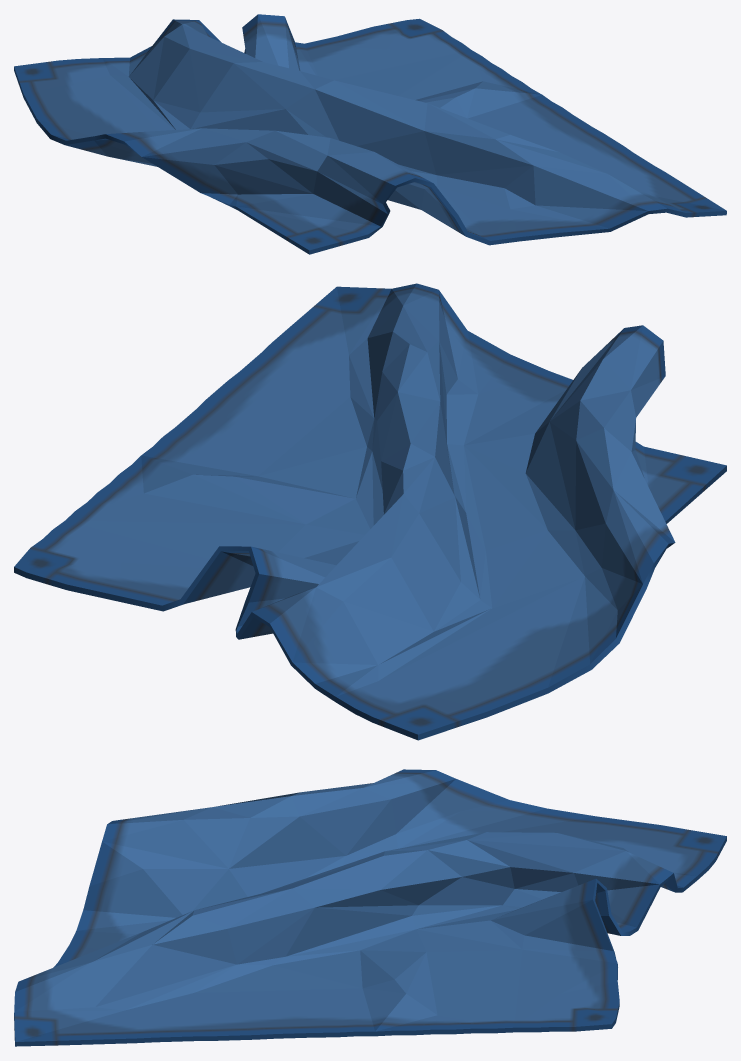
Rendered from SM_Prop_Tarp_Generic_05.glb.
3 renders of one model, top to bottom at view 1: azimuth 30°, elevation 25°; view 2: azimuth 150°, elevation 25°; view 3: azimuth 270°, elevation 25°, orthographic. The views are drawn at different scales.
Parts seen in each view (by area): view 1: SM_Prop_Tarp_Generic_05; view 2: SM_Prop_Tarp_Generic_05; view 3: SM_Prop_Tarp_Generic_05.
Part boxes in pixels (<box>): SM_Prop_Tarp_Generic_05: <box>14,14,726,254</box>; SM_Prop_Tarp_Generic_05: <box>14,283,726,740</box>; SM_Prop_Tarp_Generic_05: <box>14,769,726,1046</box>.
Bounding box in the file's own units: 3.71 × 0.5994 × 4.81.
1 material, 1 textured.
